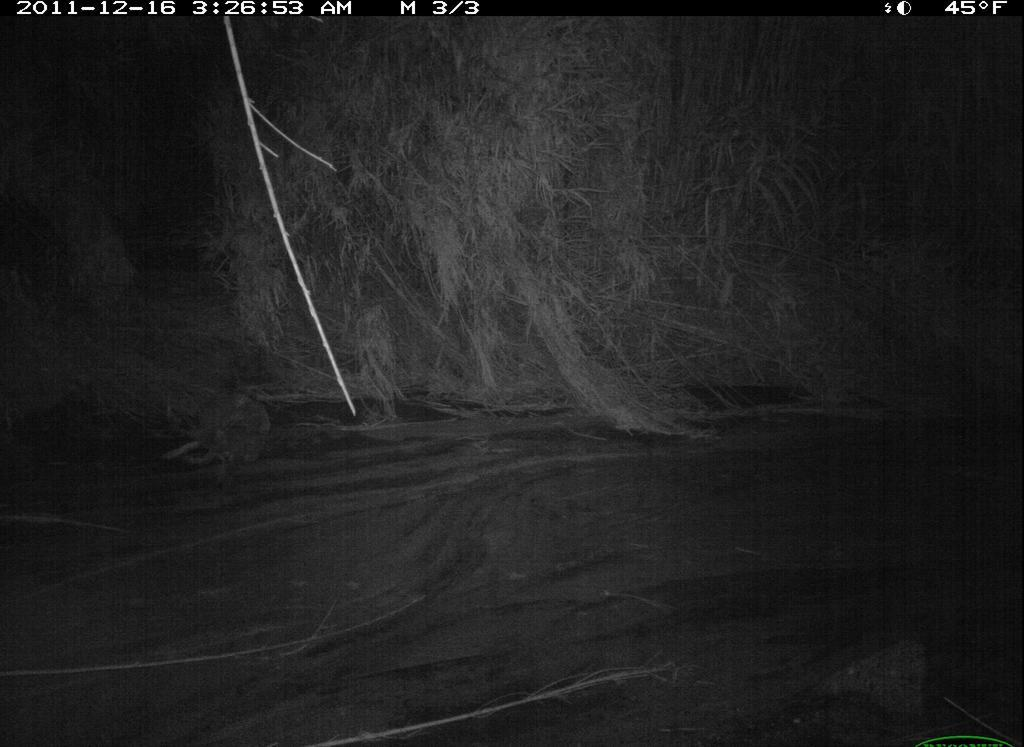coyote: (154, 379, 289, 482)
